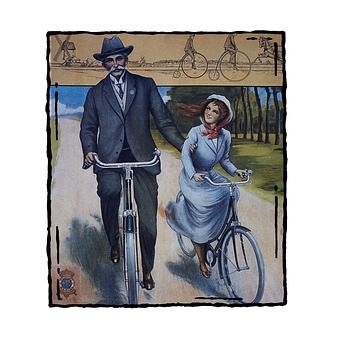bicycle: (76, 33, 166, 288), (77, 150, 165, 302), (169, 169, 264, 303), (207, 48, 254, 83), (169, 51, 210, 80)
person: (170, 94, 249, 279), (221, 35, 240, 72), (182, 31, 198, 68)
